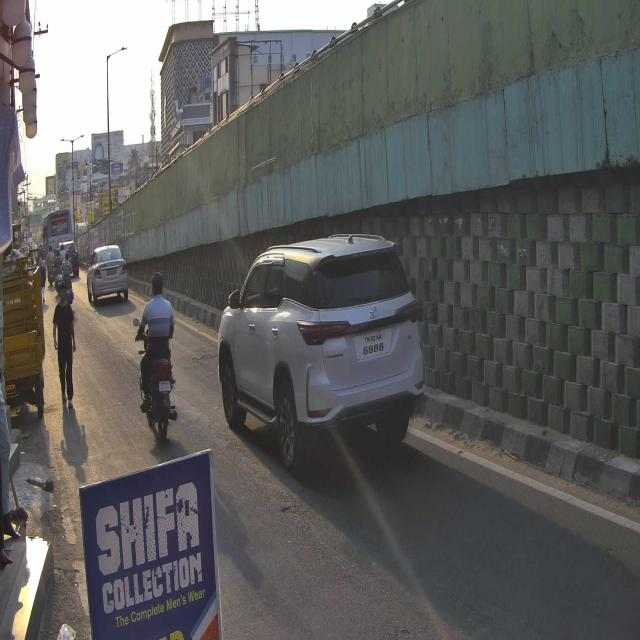single_rider: (133, 270, 180, 439)
